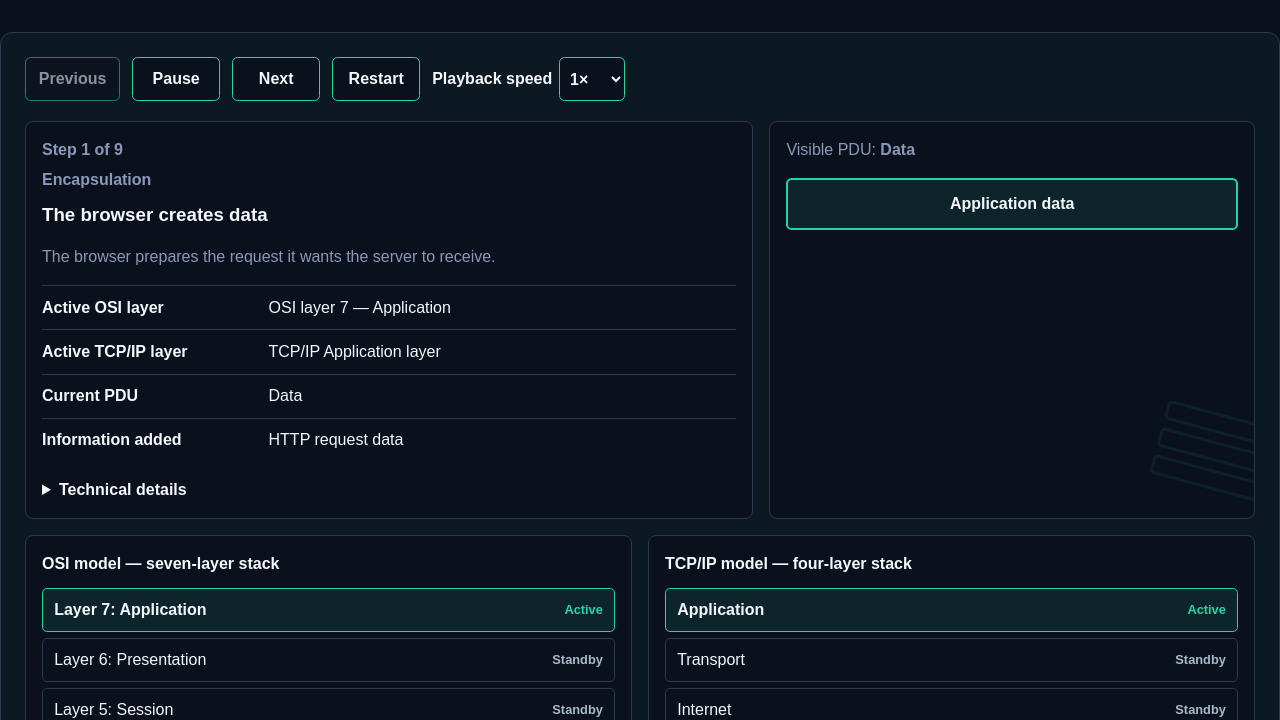
Test: EncapsulationPlayer › offers all shared playback speeds and applies the selected speed to the timer
Step 1. Select "2×" in the dropdown labelled "Playback speed" → {"x": 592, "y": 79}, box [559, 57, 626, 101]
Wait 1200 ms
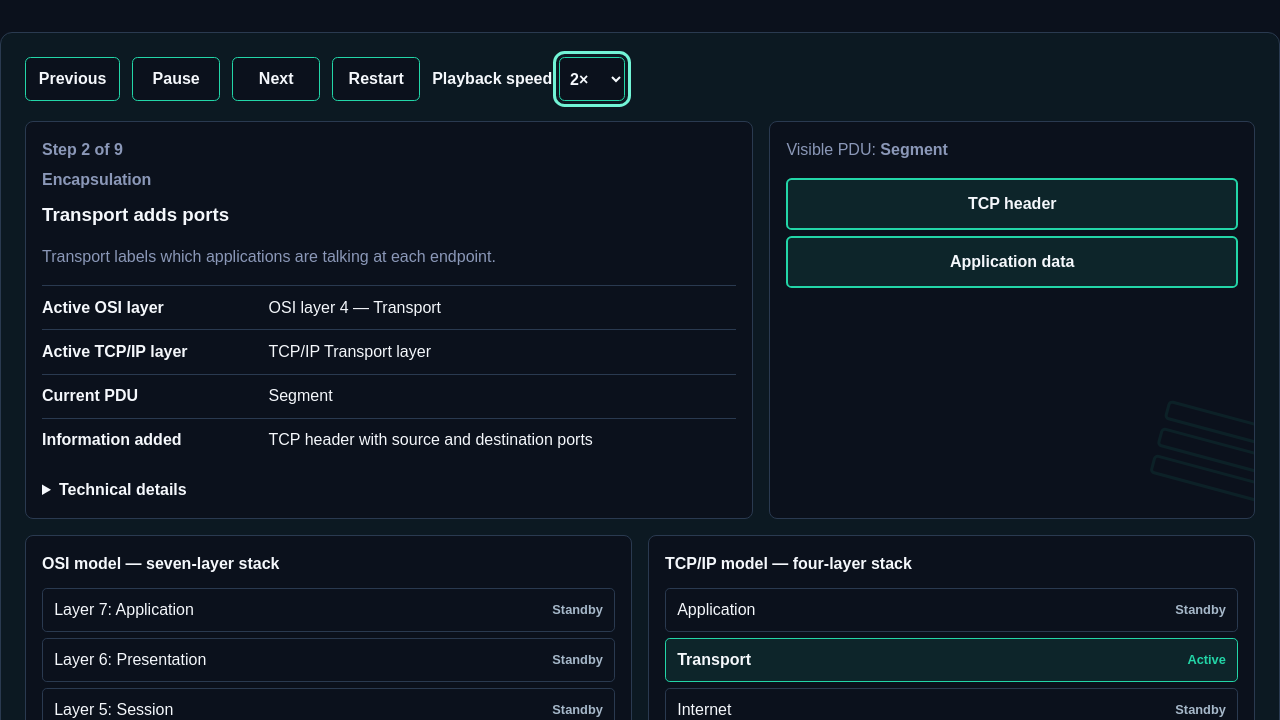
Now the text "Step 2 of 9" is shown, box [42, 141, 123, 158]
